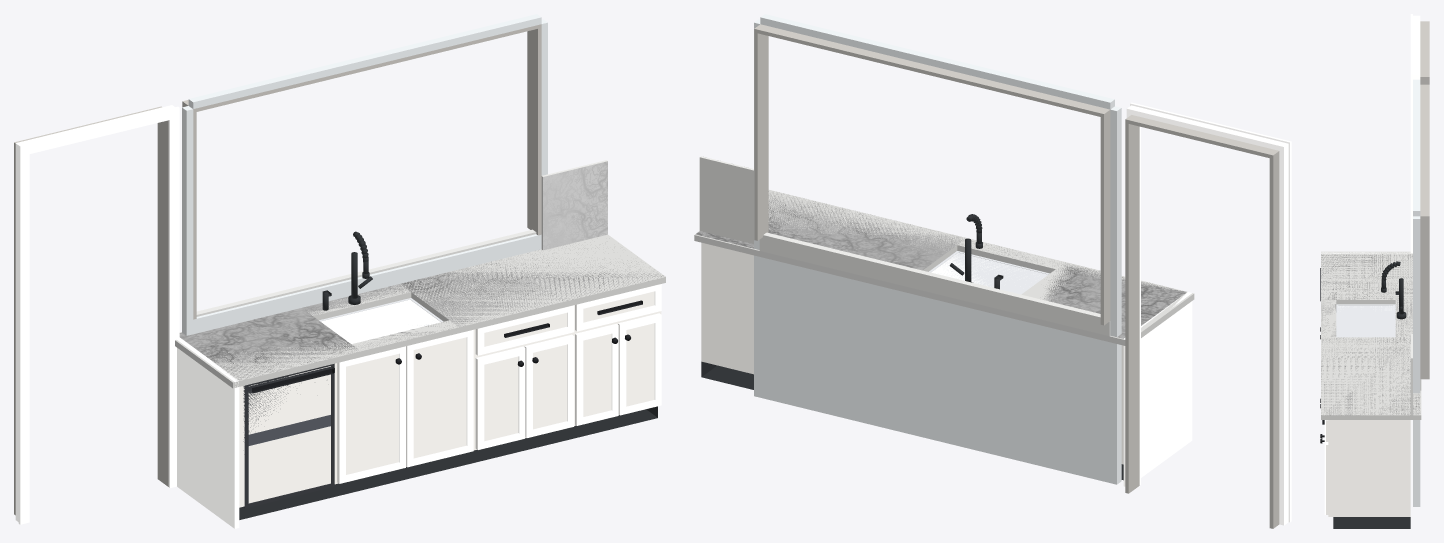
Rendered from Kitchen_Cabinets_North.glb.
3 renders of one model, left to right at view 1: azimuth 30°, elevation 25°; view 2: azimuth 150°, elevation 25°; view 3: azimuth 270°, elevation 25°, orthographic. The views are drawn at different scales.
Parts seen in each view (by area): view 1: root; view 2: root; view 3: root.
Boxes of the visible parts, <box> form: root: <box>14,14,665,528</box>; root: <box>694,14,1291,528</box>; root: <box>1320,14,1429,528</box>.
Size of the model in its own units: 3.83 by 2.36 by 0.7995.
Materials: 16 (2 with a texture image).
